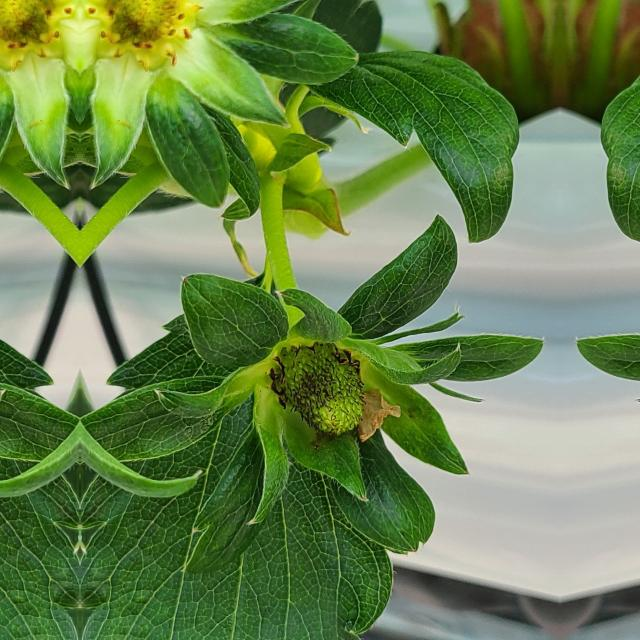Health_25: (280, 342, 362, 434)
